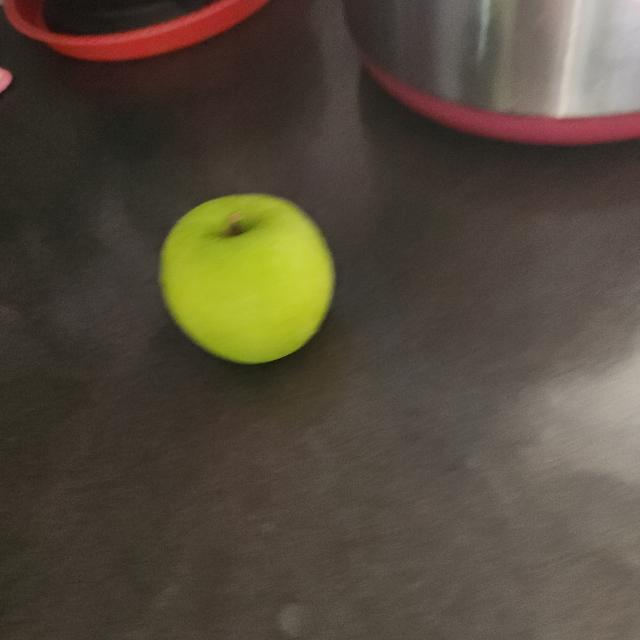apple: (158, 182, 344, 368)
